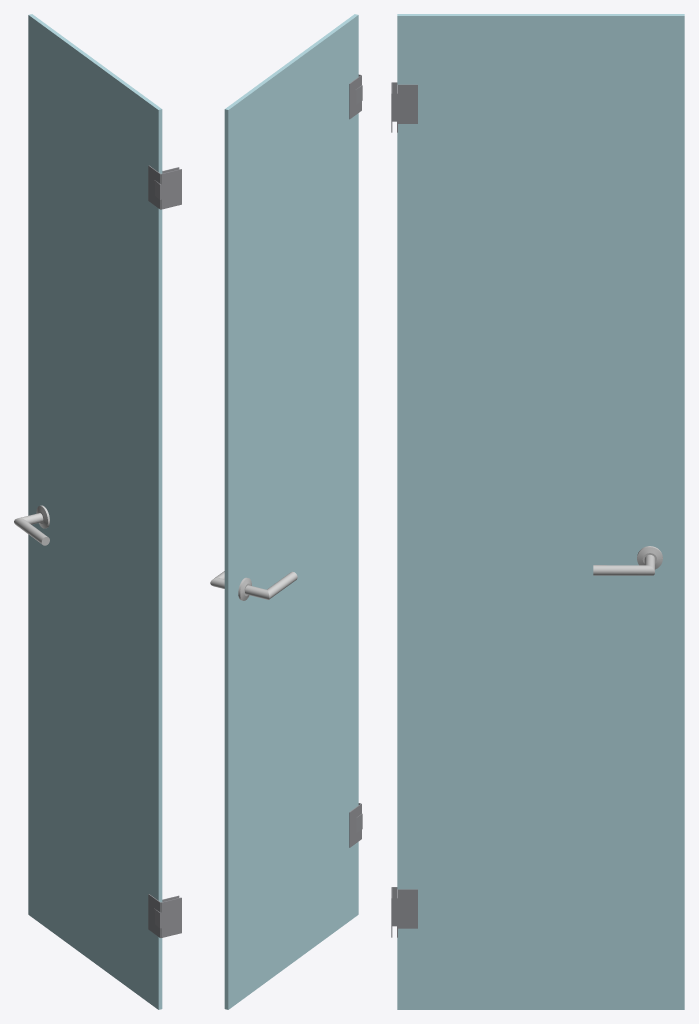
Rendered from Tuere_Dusche.glb.
3 views of the same model, side by side, from view 1: azimuth 30°, elevation 25°; view 2: azimuth 150°, elevation 25°; view 3: azimuth 270°, elevation 25° (orthographic). The views are drawn at different scales.
Visible parts, largest first — view 1: Mesh1 Component_222 G_22_T_re_Dusche_dwg1 Model, Mesh4 Component_225 G_22_T_re_Dusche_dwg1 Model, Mesh9 Component_230 G_22_T_re_Dusche_dwg1 Model, Mesh13 Component_234 G_22_T_re_Dusche_dwg1 Model; view 2: Mesh1 Component_222 G_22_T_re_Dusche_dwg1 Model, Mesh13 Component_234 G_22_T_re_Dusche_dwg1 Model, Mesh2 Component_223 G_22_T_re_Dusche_dwg1 Model, Mesh7 Component_228 G_22_T_re_Dusche_dwg1 Model; view 3: Mesh1 Component_222 G_22_T_re_Dusche_dwg1 Model, Mesh12 Component_233 G_22_T_re_Dusche_dwg1 Model, Mesh5 Component_226 G_22_T_re_Dusche_dwg1 Model, Mesh10 Component_231 G_22_T_re_Dusche_dwg1 Model.
Boxes of the visible parts, left/top/right/bottom form: Mesh1 Component_222 G_22_T_re_Dusche_dwg1 Model: left=28, top=14, right=162, bottom=1009; Mesh4 Component_225 G_22_T_re_Dusche_dwg1 Model: left=161, top=169, right=181, bottom=209; Mesh9 Component_230 G_22_T_re_Dusche_dwg1 Model: left=161, top=897, right=181, bottom=937; Mesh13 Component_234 G_22_T_re_Dusche_dwg1 Model: left=14, top=505, right=49, bottom=545; Mesh1 Component_222 G_22_T_re_Dusche_dwg1 Model: left=224, top=14, right=358, bottom=1009; Mesh13 Component_234 G_22_T_re_Dusche_dwg1 Model: left=238, top=571, right=297, bottom=600; Mesh2 Component_223 G_22_T_re_Dusche_dwg1 Model: left=349, top=75, right=361, bottom=119; Mesh7 Component_228 G_22_T_re_Dusche_dwg1 Model: left=349, top=803, right=361, bottom=847; Mesh1 Component_222 G_22_T_re_Dusche_dwg1 Model: left=397, top=14, right=684, bottom=1009; Mesh12 Component_233 G_22_T_re_Dusche_dwg1 Model: left=593, top=546, right=662, bottom=575; Mesh5 Component_226 G_22_T_re_Dusche_dwg1 Model: left=398, top=84, right=417, bottom=123; Mesh10 Component_231 G_22_T_re_Dusche_dwg1 Model: left=398, top=889, right=417, bottom=928.
Size of the model in its own units: 15.86 by 229 by 61.3.
